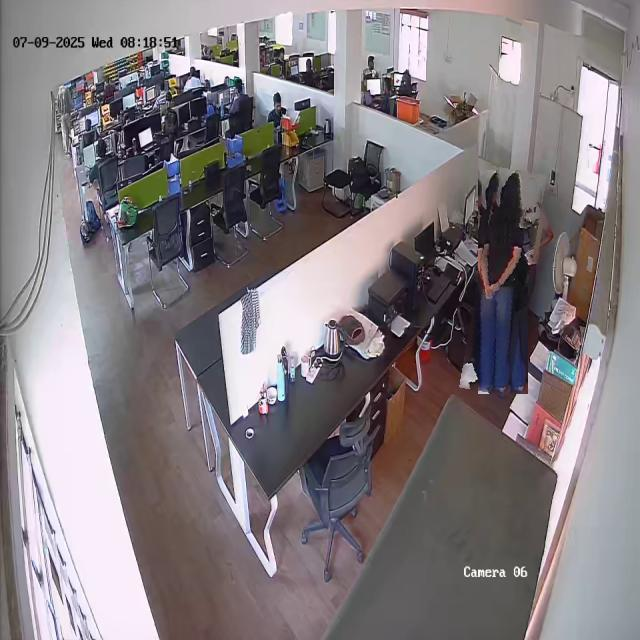person: (468, 169, 538, 395)
